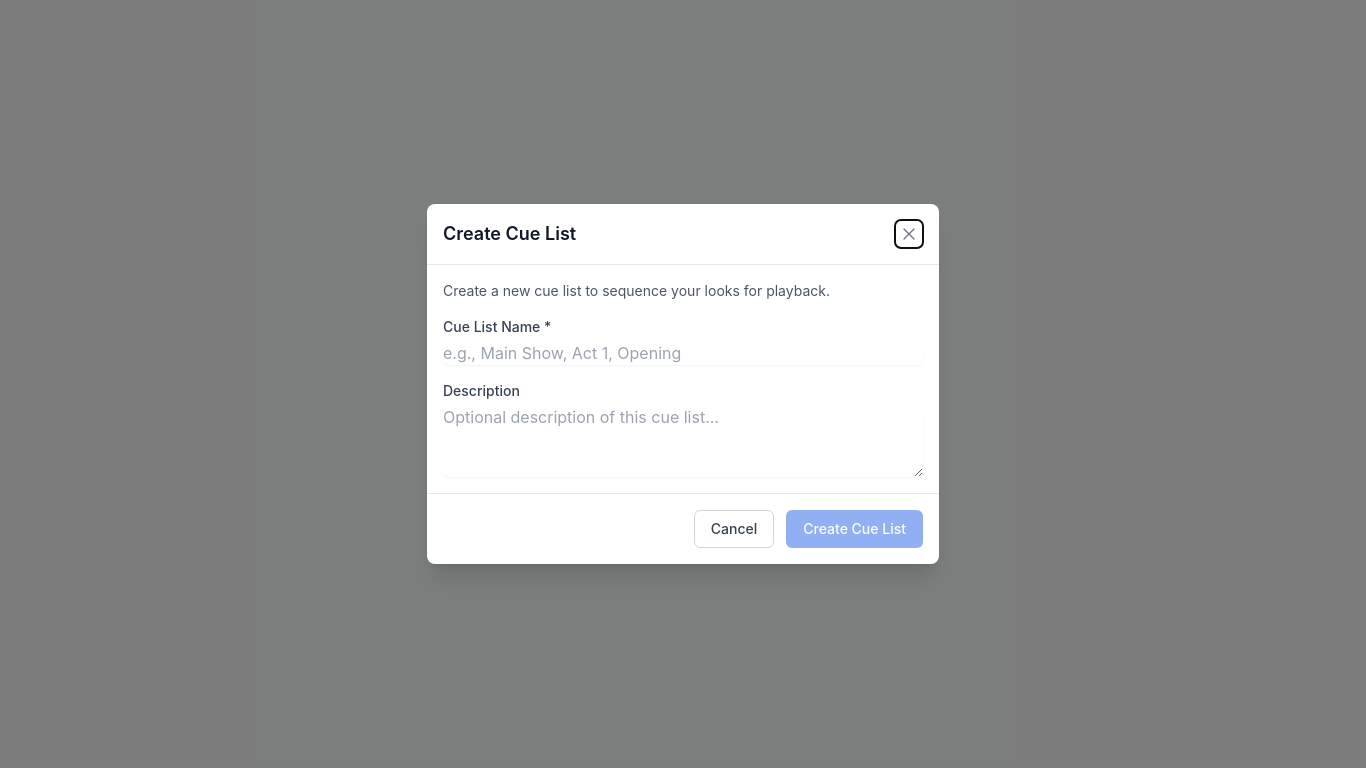
Scenario: CreateCueListModal › loading state › disables submit button while creating
Type "Test" into the field labelled "Cue List Name *" at (683, 353), box x1=443 y1=341 x2=923 y2=365
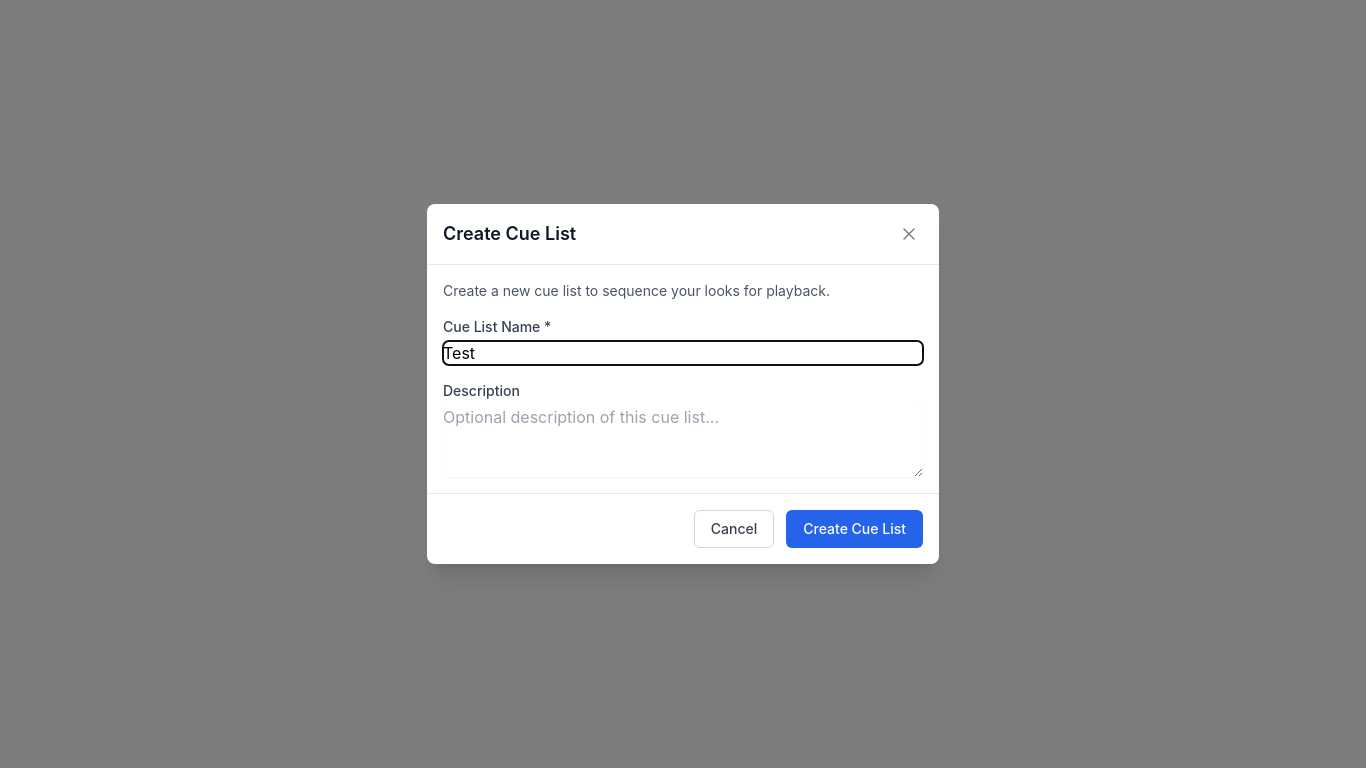
Click the button "Create Cue List" at (855, 529), box x1=786 y1=510 x2=923 y2=548
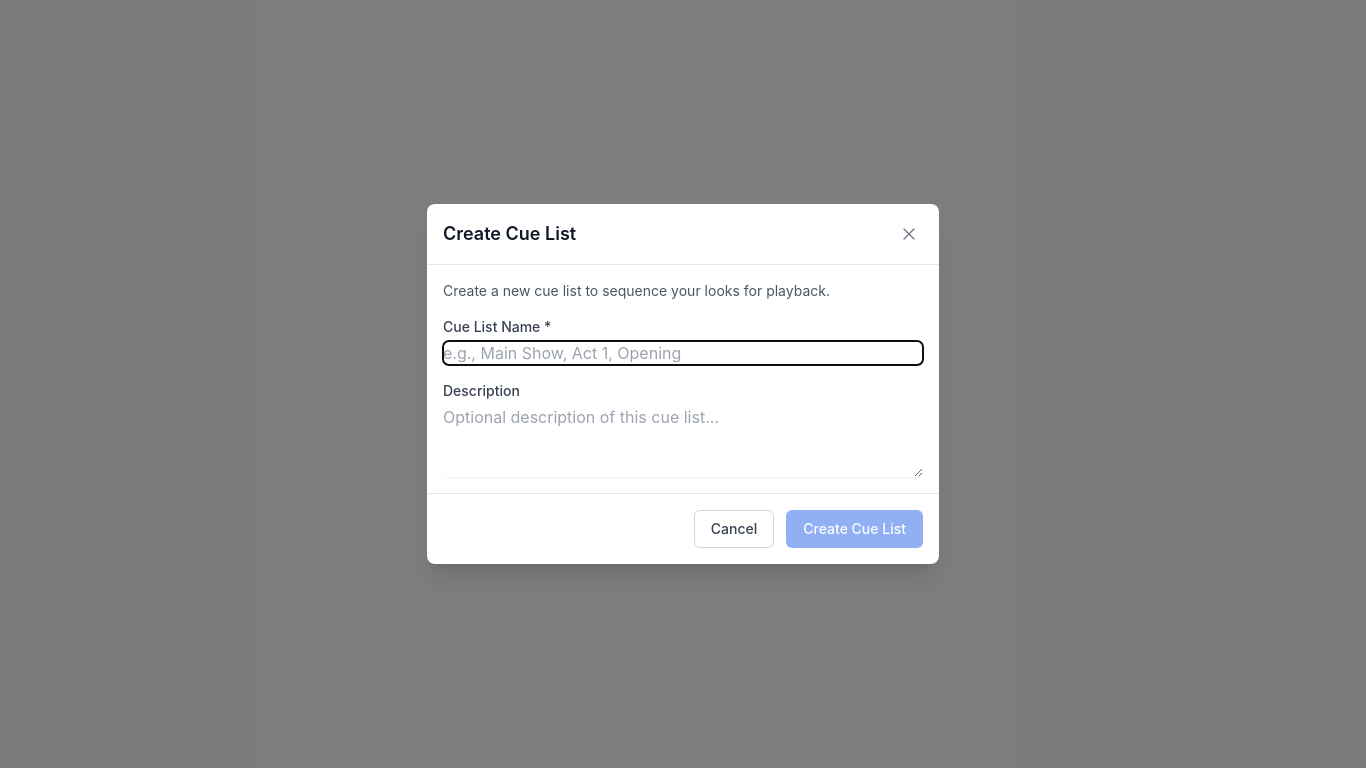
expect the button named "Creating..." is disabled: met, box x1=786 y1=510 x2=923 y2=548
